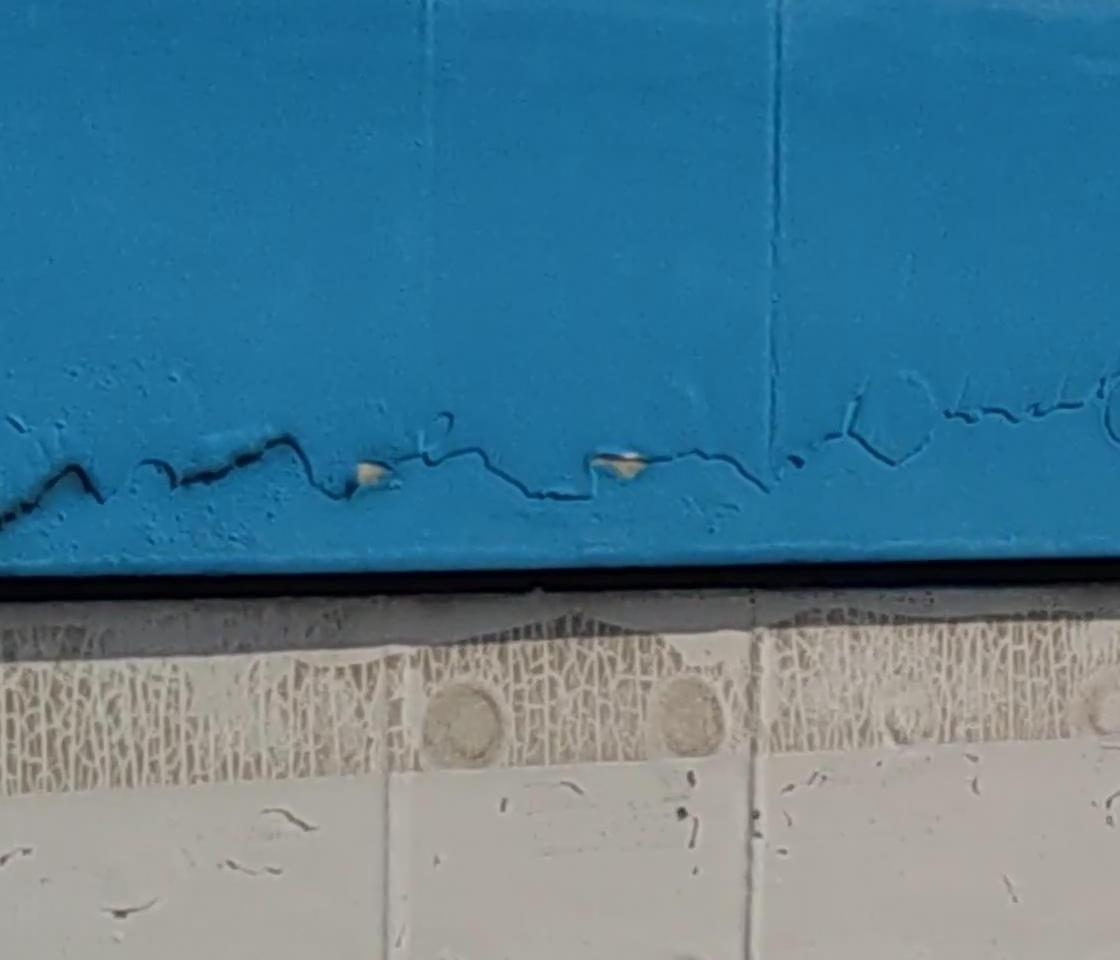scratch: (257, 802, 326, 835), (99, 899, 172, 921)
